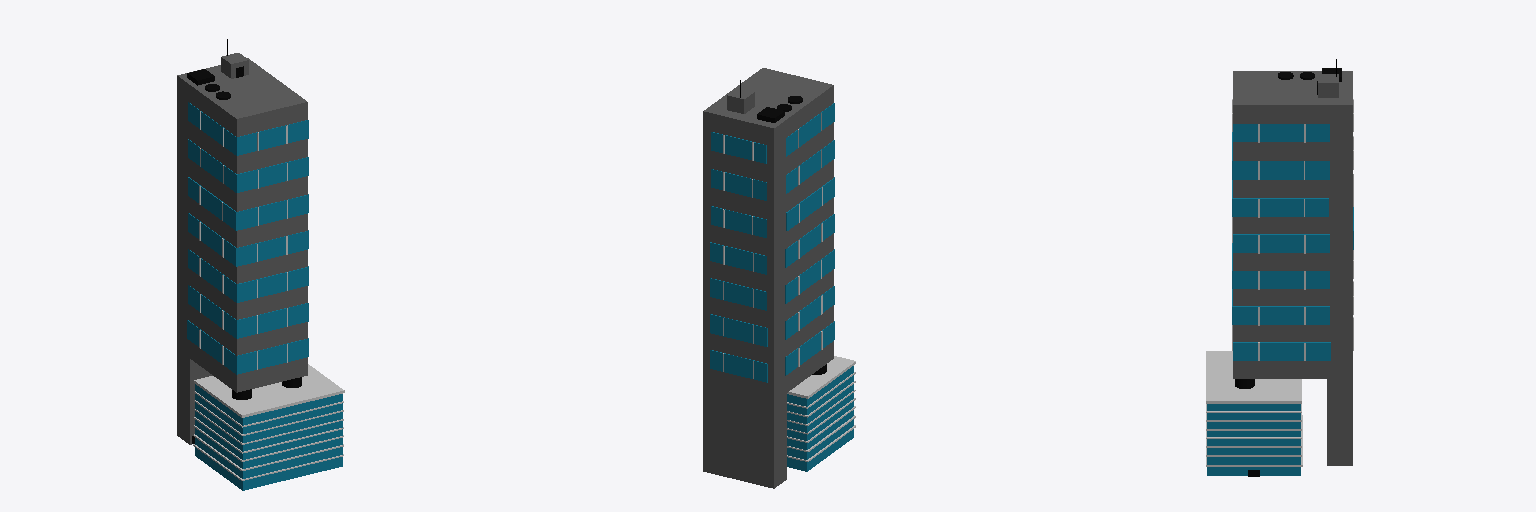
File: bill3.obj
The picture shows the model from 3 angles: view 1: azimuth 30°, elevation 25°; view 2: azimuth 150°, elevation 25°; view 3: azimuth 270°, elevation 25°; orthographic projection.
Parts seen in each view (by area): view 1: Cube; view 2: Cube; view 3: Cube.
Part boxes in pixels (bbox=[...]): Cube: bbox=[177, 39, 344, 490]; Cube: bbox=[703, 68, 855, 488]; Cube: bbox=[1206, 59, 1353, 476].
Size of the model in its own units: 11.58 by 42.27 by 14.51.